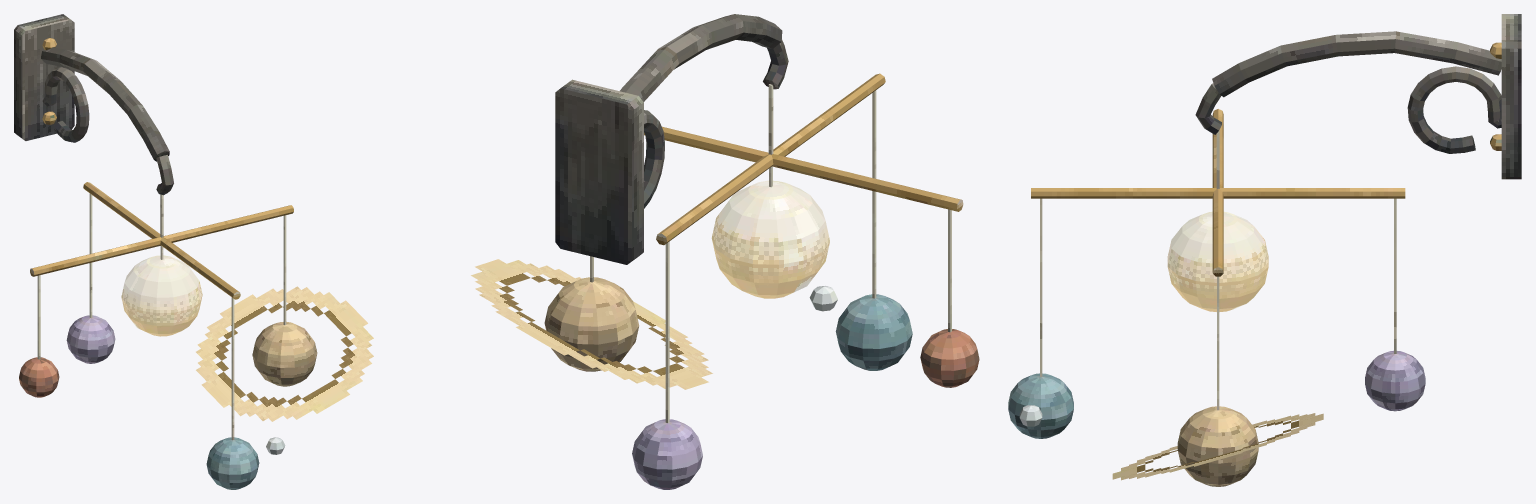
Rendered from planet_mobile.glb.
The picture shows the model from 3 angles, left to right: view 1: azimuth 30°, elevation 25°; view 2: azimuth 150°, elevation 25°; view 3: azimuth 270°, elevation 25°; orthographic projection. The views are drawn at different scales.
Parts seen in each view (by area): view 1: static, ring0, glow_sun, planet0, bar0, planet1, planet3, bar1, planet2, thread1, thread3, thread0; view 2: static, glow_sun, ring0, planet0, planet1, bar0, planet3, bar1, planet2, thread1, thread3; view 3: static, glow_sun, planet0, bar1, planet1, planet3, ring0, bar0.
Boxes of the visible parts, x1=… form: static: x1=14, y1=14, x2=173, y2=195; ring0: x1=196, y1=286, x2=373, y2=421; glow_sun: x1=121, y1=255, x2=202, y2=336; planet0: x1=252, y1=321, x2=317, y2=386; bar0: x1=30, y1=205, x2=293, y2=276; planet1: x1=206, y1=437, x2=259, y2=489; planet3: x1=66, y1=315, x2=115, y2=363; bar1: x1=83, y1=182, x2=240, y2=299; planet2: x1=19, y1=357, x2=59, y2=397; thread1: x1=231, y1=297, x2=234, y2=440; thread3: x1=89, y1=193, x2=92, y2=317; thread0: x1=283, y1=215, x2=286, y2=325; static: x1=555, y1=14, x2=788, y2=264; glow_sun: x1=711, y1=180, x2=829, y2=298; ring0: x1=471, y1=259, x2=712, y2=389; planet0: x1=544, y1=277, x2=639, y2=371; planet1: x1=835, y1=294, x2=912, y2=370; bar0: x1=644, y1=126, x2=963, y2=211; planet3: x1=632, y1=419, x2=702, y2=489; bar1: x1=656, y1=73, x2=885, y2=245; planet2: x1=920, y1=329, x2=979, y2=387; thread1: x1=872, y1=90, x2=876, y2=298; thread3: x1=665, y1=241, x2=669, y2=422; static: x1=1195, y1=14, x2=1521, y2=179; glow_sun: x1=1167, y1=211, x2=1268, y2=311; planet0: x1=1177, y1=406, x2=1258, y2=486; bar1: x1=1031, y1=188, x2=1405, y2=198; planet1: x1=1008, y1=373, x2=1073, y2=438; planet3: x1=1365, y1=350, x2=1425, y2=411; ring0: x1=1112, y1=413, x2=1323, y2=480; bar0: x1=1212, y1=109, x2=1223, y2=276.
Size of the model in its own units: 1.22 by 1.11 by 1.27.
Materials: 3 (3 with a texture image).
